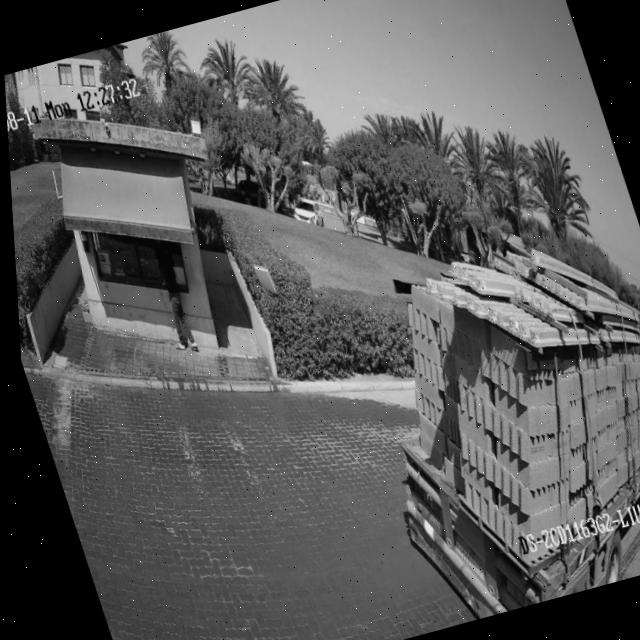bricks: (408, 286, 640, 555)
